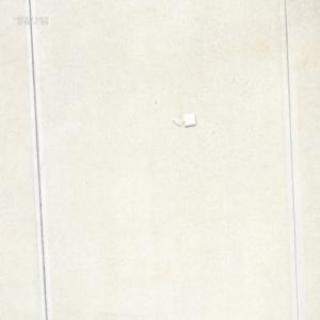LuggageTagtrack_idkeyframe: (170, 111, 196, 128)
